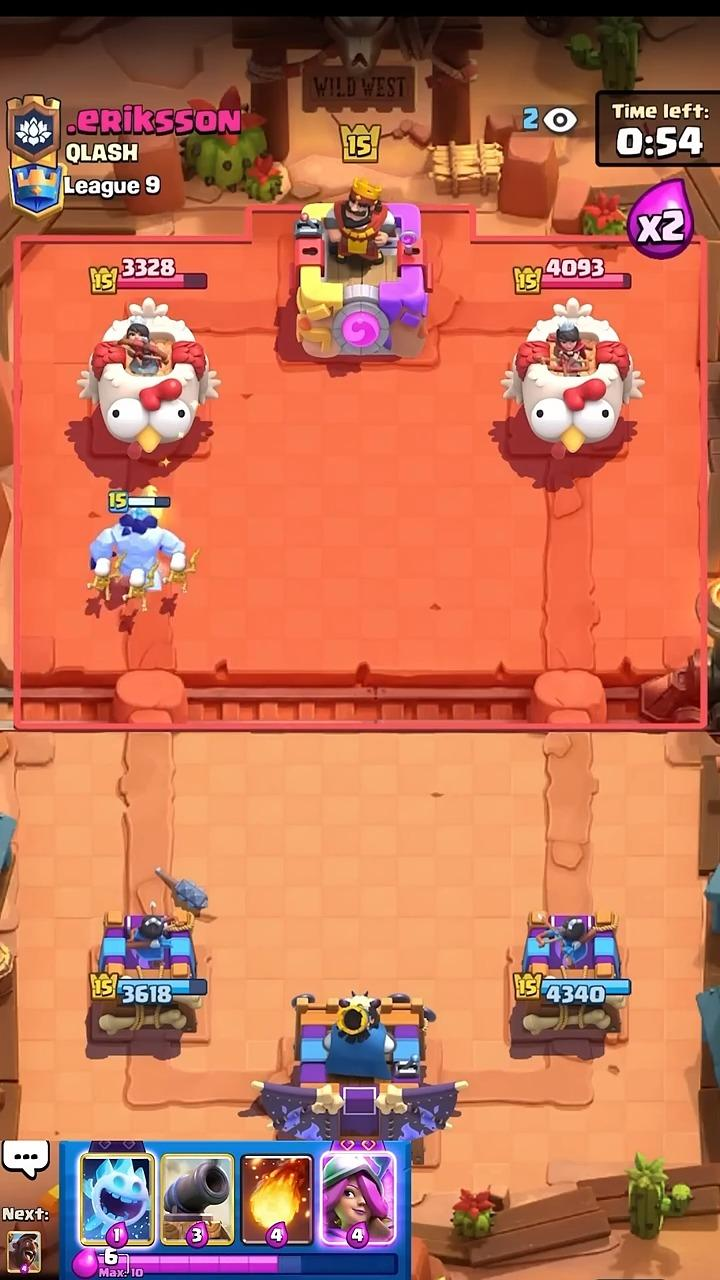ice golem: (90, 507, 185, 590)
skeletons: (122, 563, 157, 611), (88, 556, 124, 601), (161, 552, 198, 593)
